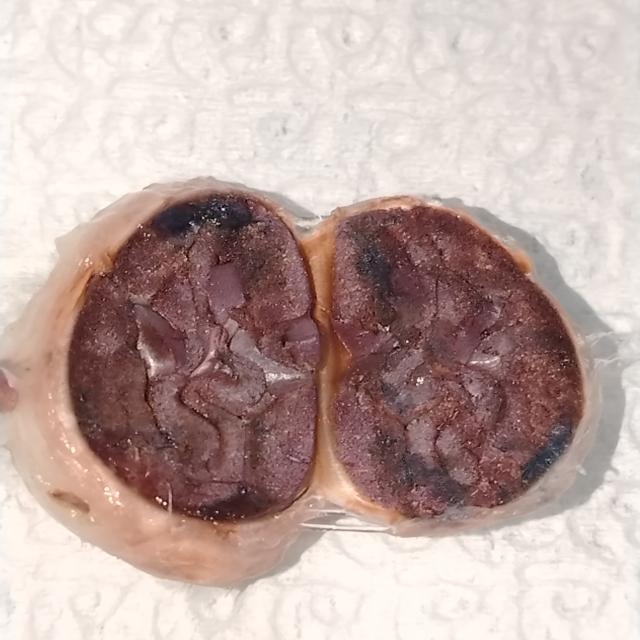Forastero: (69, 194, 319, 524), (333, 203, 587, 524)
